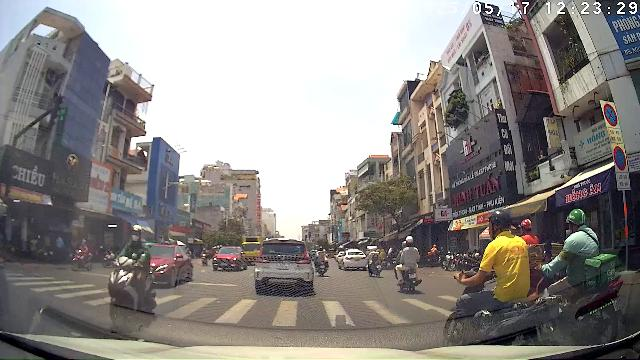130-cam-dung-va-do-xe: (603, 102, 618, 127)
131a-cam-do-xe: (613, 145, 627, 171)
